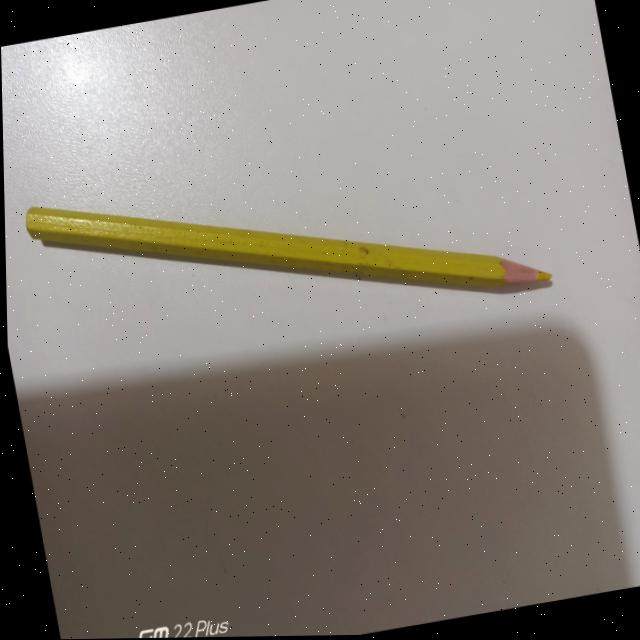pencil: (25, 207, 551, 295)
